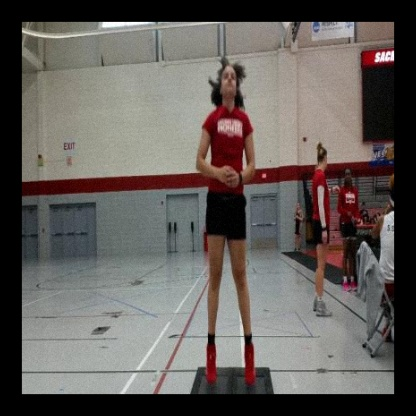lateral_flexion_left: (195, 52, 259, 394)
stance_width_normal: (195, 101, 259, 394)
